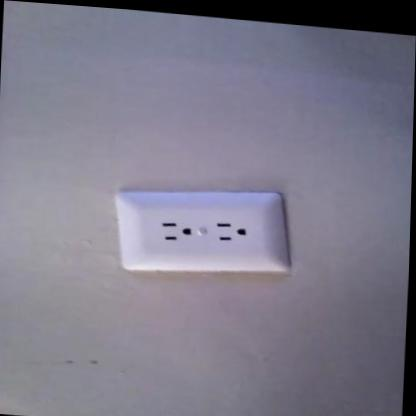OUTLET: (113, 176, 289, 283)
